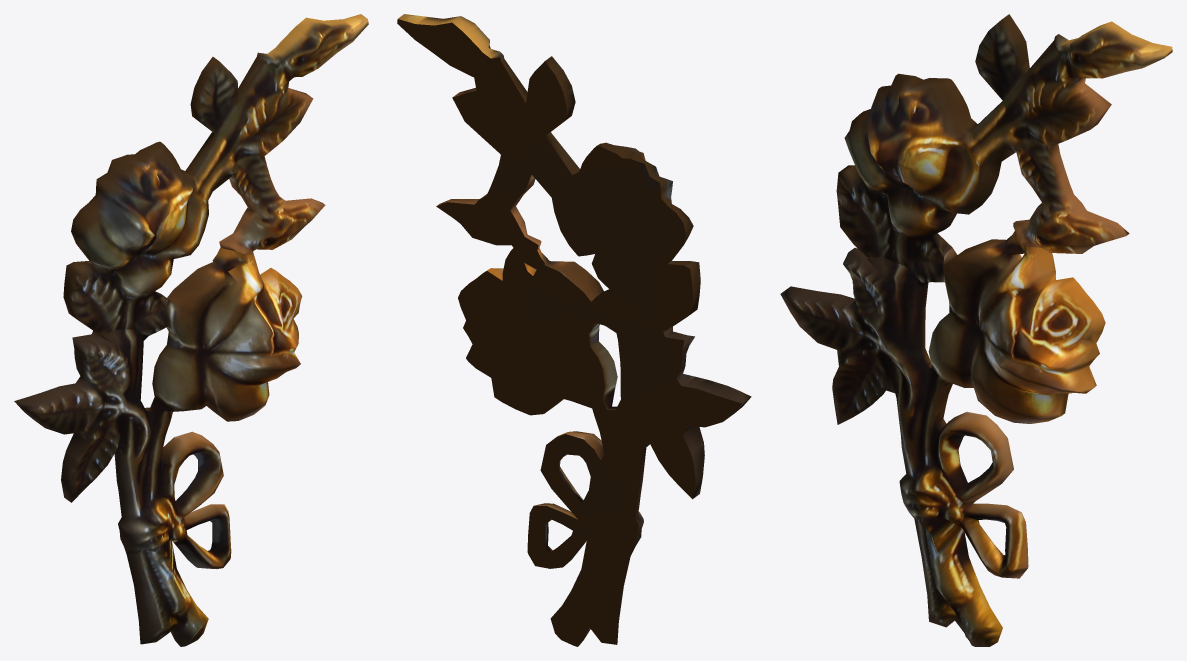
Rendered from Art2652.fbx.
3 renders of one model, left to right at view 1: azimuth 30°, elevation 25°; view 2: azimuth 150°, elevation 25°; view 3: azimuth 330°, elevation 25°, orthographic. The views are drawn at different scales.
Visible parts, largest first — view 1: Mesh_2; view 2: Mesh_2; view 3: Mesh_2.
Part boxes in pixels (x1,y1,x2,y2): Mesh_2: (14, 14, 368, 646); Mesh_2: (397, 14, 751, 646); Mesh_2: (780, 14, 1172, 646).
Bounding box in the file's own units: 11.98 × 19.69 × 1.86.
1 material, 1 textured.
